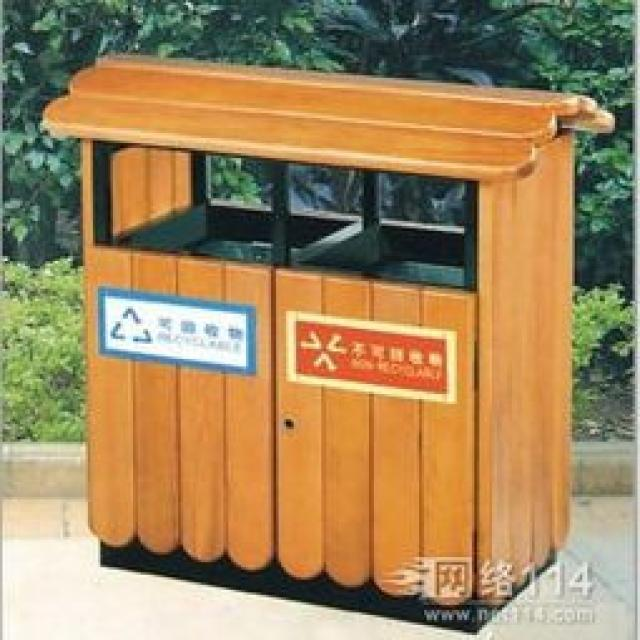garbage_bin: (40, 50, 612, 633)
